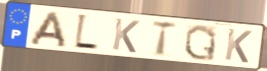A: (27, 10, 68, 49)
K: (110, 17, 142, 55), (223, 27, 254, 65)
L: (72, 12, 100, 52)
Q: (182, 23, 219, 63)
T: (150, 19, 179, 58)
